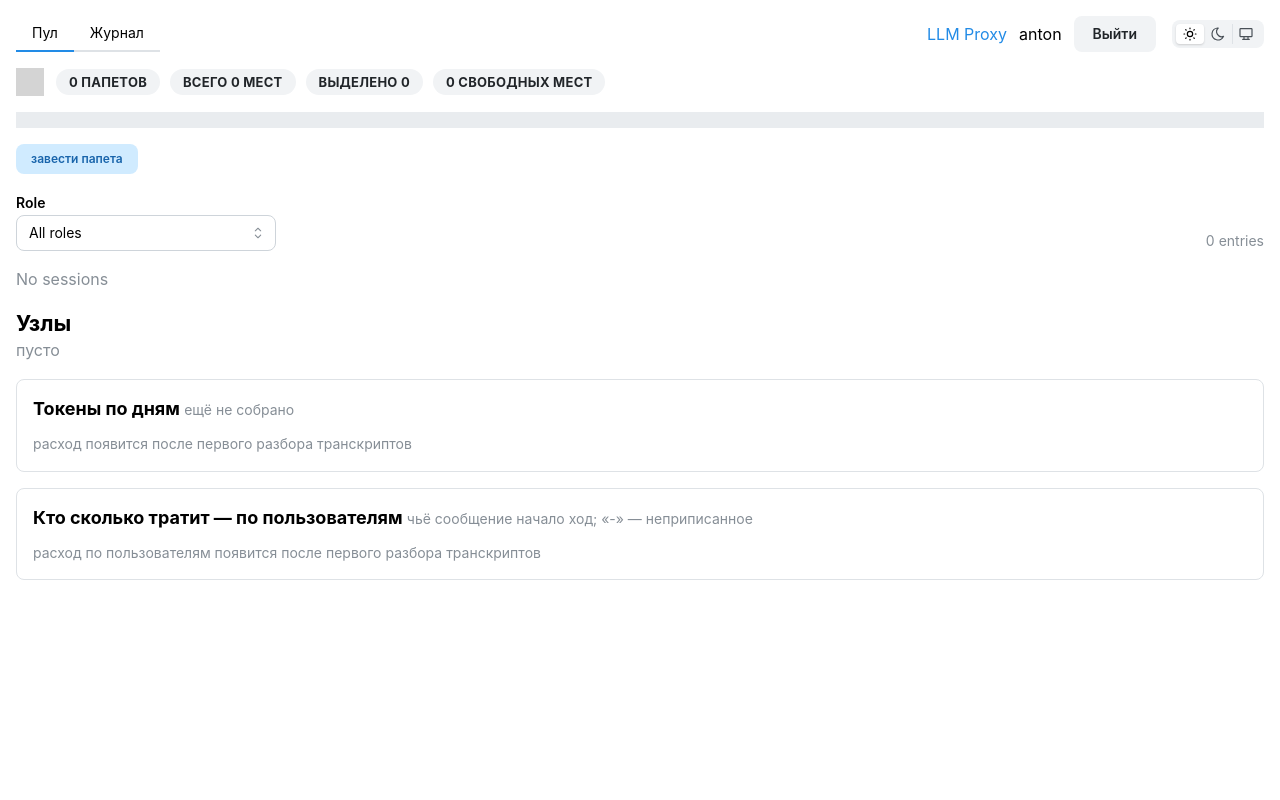
Test: #422 admin follows the link to #journal and sees the events
Click the tab "Журнал" at (117, 34), box x1=74 y1=16 x2=160 y2=52
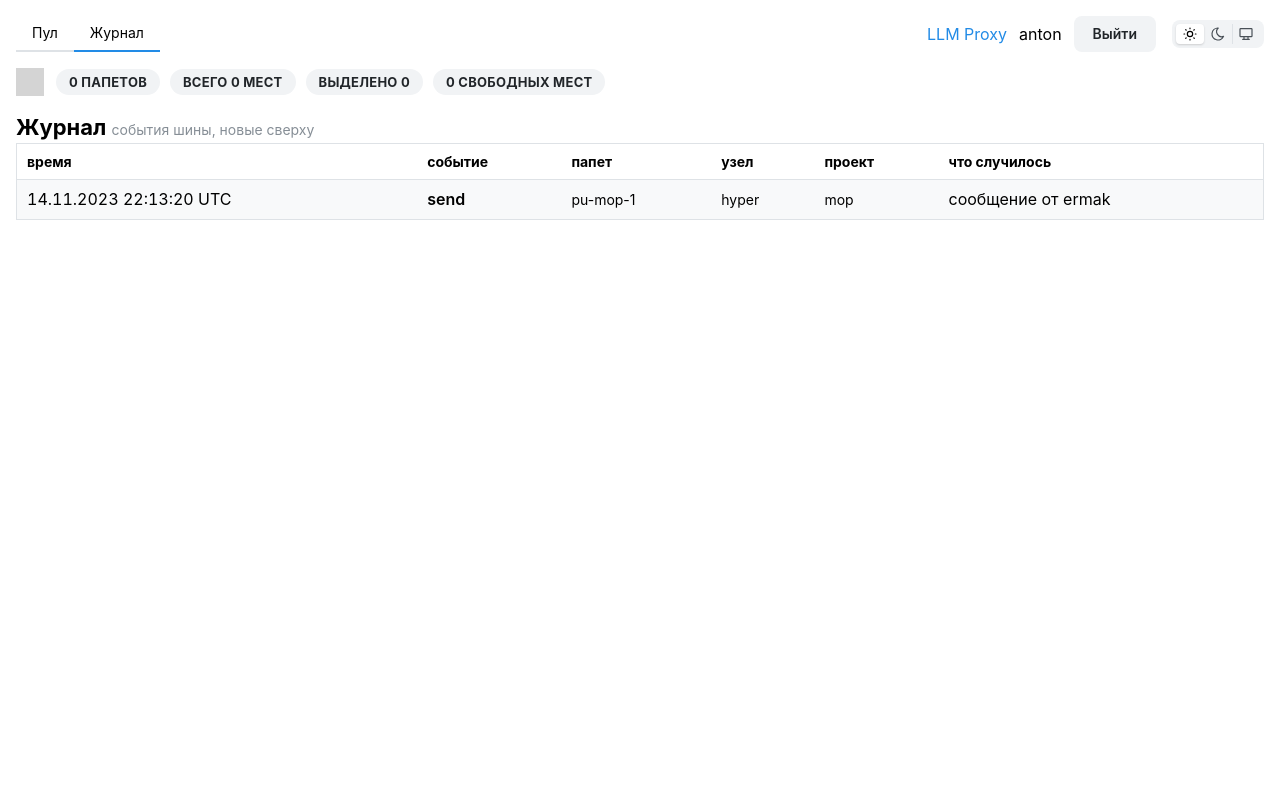
Expected: the text "pu-mop-1" is shown, x1=561 y1=180 x2=711 y2=220
